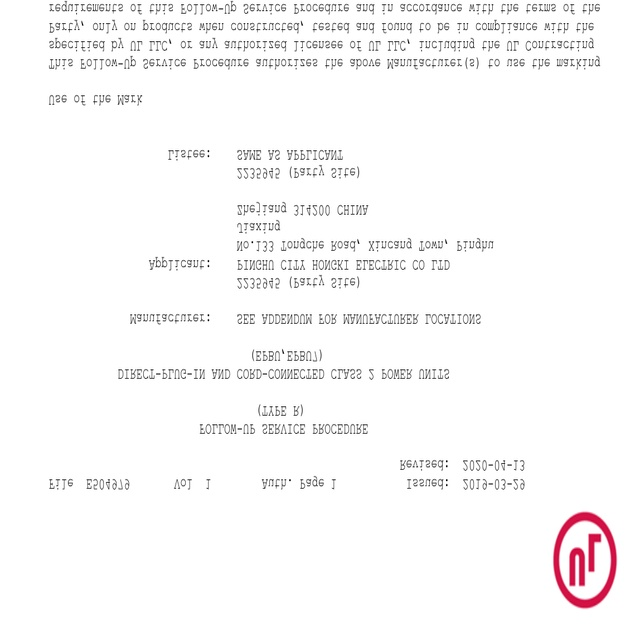ul: (549, 511, 617, 610)
